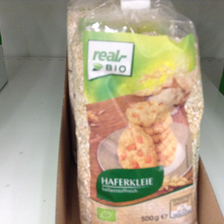cereal: (65, 1, 204, 222)
